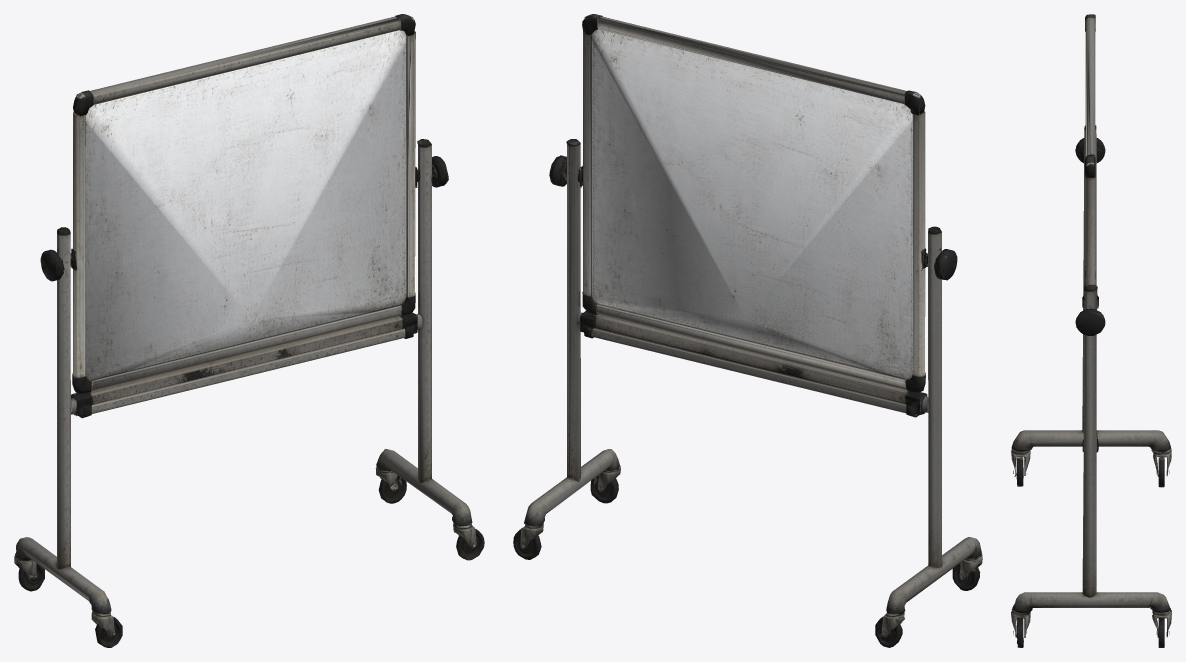
File: p7-mobile-whiteboard-t25.glb
The picture shows the model from 3 angles, left to right: view 1: azimuth 30°, elevation 25°; view 2: azimuth 150°, elevation 25°; view 3: azimuth 270°, elevation 25°; orthographic projection. The views are drawn at different scales.
Visible parts, largest first — view 1: p7-mobile-whiteboard-t25; view 2: p7-mobile-whiteboard-t25; view 3: p7-mobile-whiteboard-t25.
Boxes of the visible parts, left/top/right/bottom form: p7-mobile-whiteboard-t25: left=14, top=14, right=484, bottom=647; p7-mobile-whiteboard-t25: left=513, top=14, right=982, bottom=647; p7-mobile-whiteboard-t25: left=1011, top=14, right=1171, bottom=647.
Size of the model in its own units: 1.43 by 1.8 by 0.55.
1 material, 1 textured.
